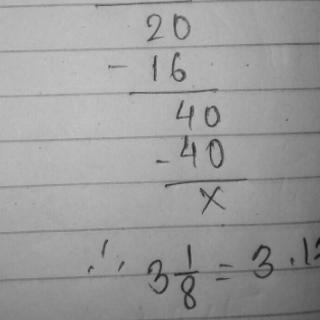.: (284, 253, 298, 267)
0: (206, 134, 227, 170), (171, 12, 192, 41), (205, 104, 221, 130)
1: (298, 234, 313, 264), (183, 241, 196, 271), (153, 50, 160, 84)
2: (145, 12, 163, 42)
3: (145, 258, 170, 299), (251, 244, 276, 281)
4: (179, 133, 198, 166), (176, 98, 194, 130)
6: (169, 50, 189, 85)
8: (177, 275, 200, 312)
